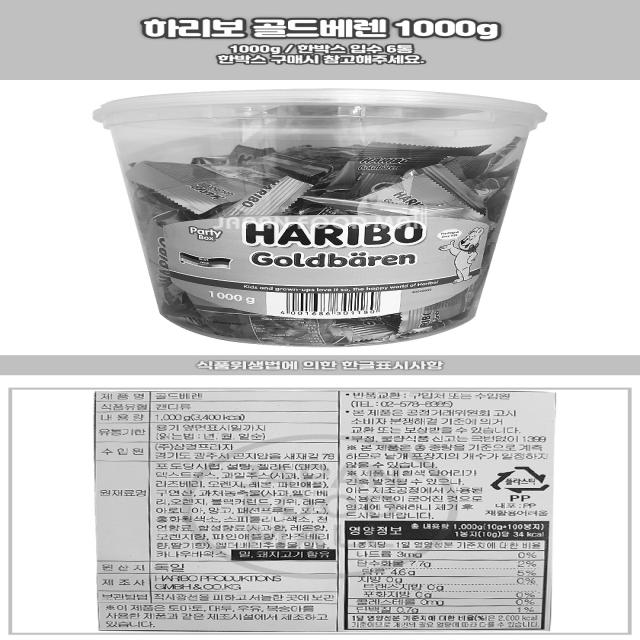Nutrition Label: (341, 516, 552, 635)
